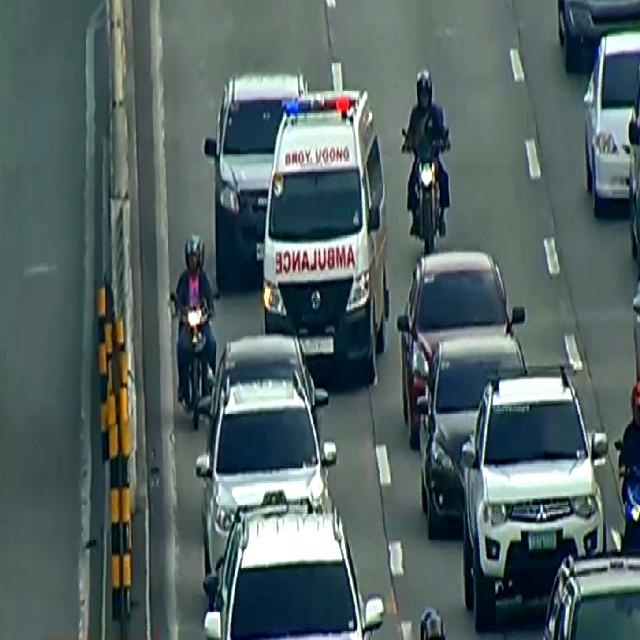emergency: (262, 89, 394, 373)
